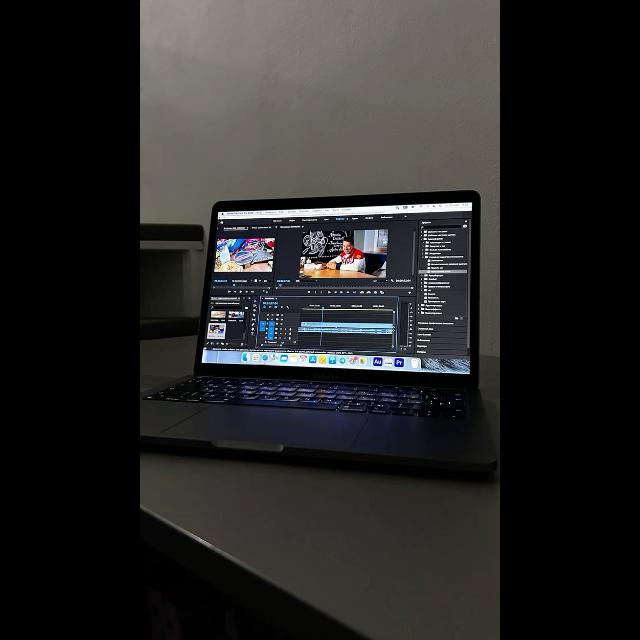laptop: (140, 189, 500, 479)
